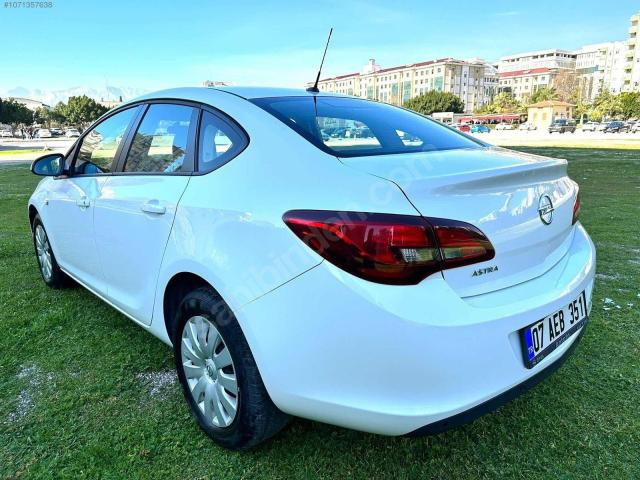plaka: (521, 290, 588, 368)
